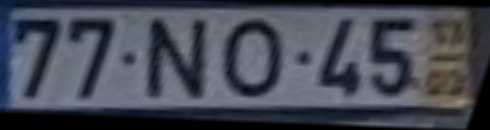4: (313, 18, 368, 101)
5: (371, 19, 423, 100)
7: (63, 17, 120, 104), (10, 17, 67, 104)
N: (141, 16, 211, 102)
O: (221, 18, 287, 101)
